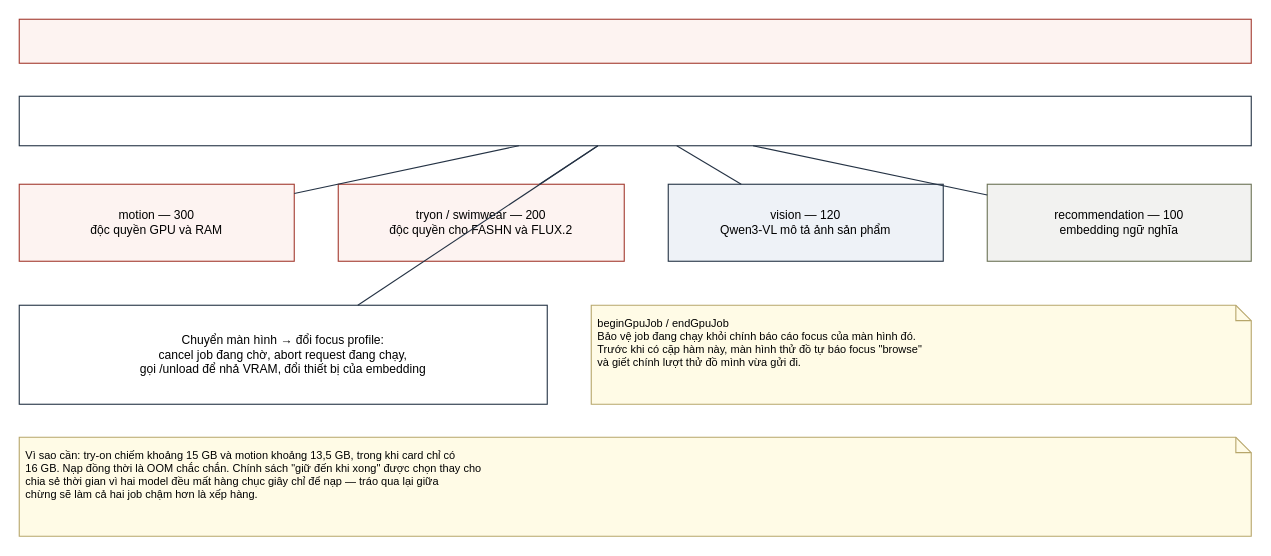
This 1271x556 diagram has some shape labels left out. The centre of each missing label's shape, as x and y in pixels:
GPU NVIDIA RTX 5060 Ti — 16 311 MiB VRAM: the point at 634,40
Hàng chờ ưu tiên — chỉ một job sinh ảnh/video chạy tại một thời điểm: the point at 634,120
